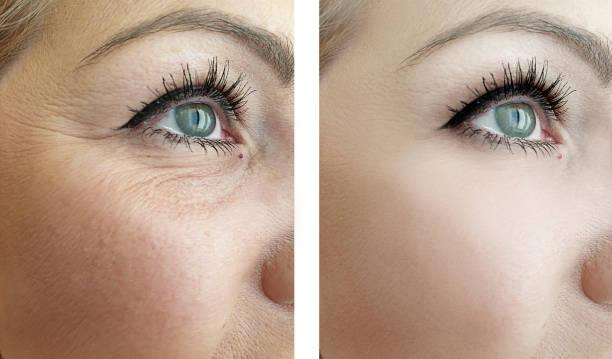Dry-Skin: (0, 105, 148, 359)
